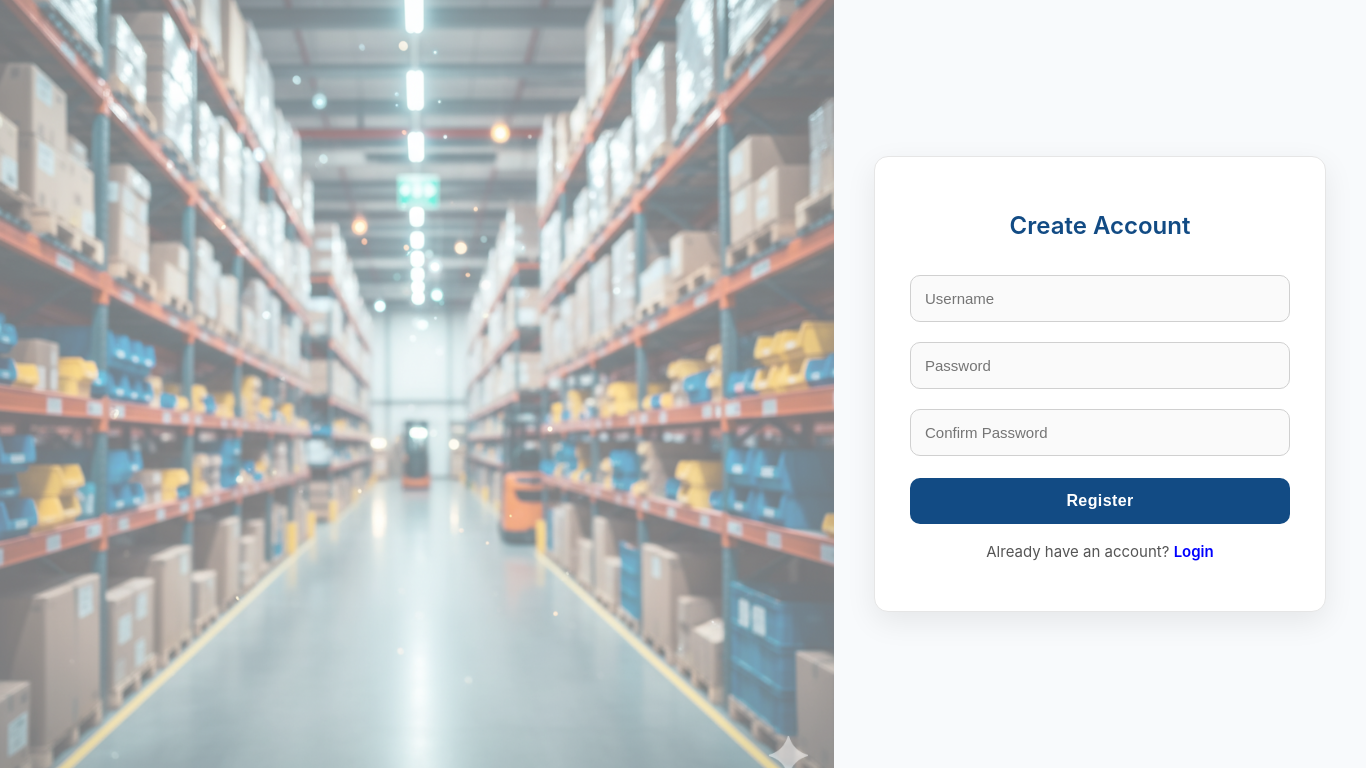
shows password mismatch error
Type "u1" into the field with placeholder "Username" at (1100, 299), box x1=910 y1=276 x2=1290 y2=322
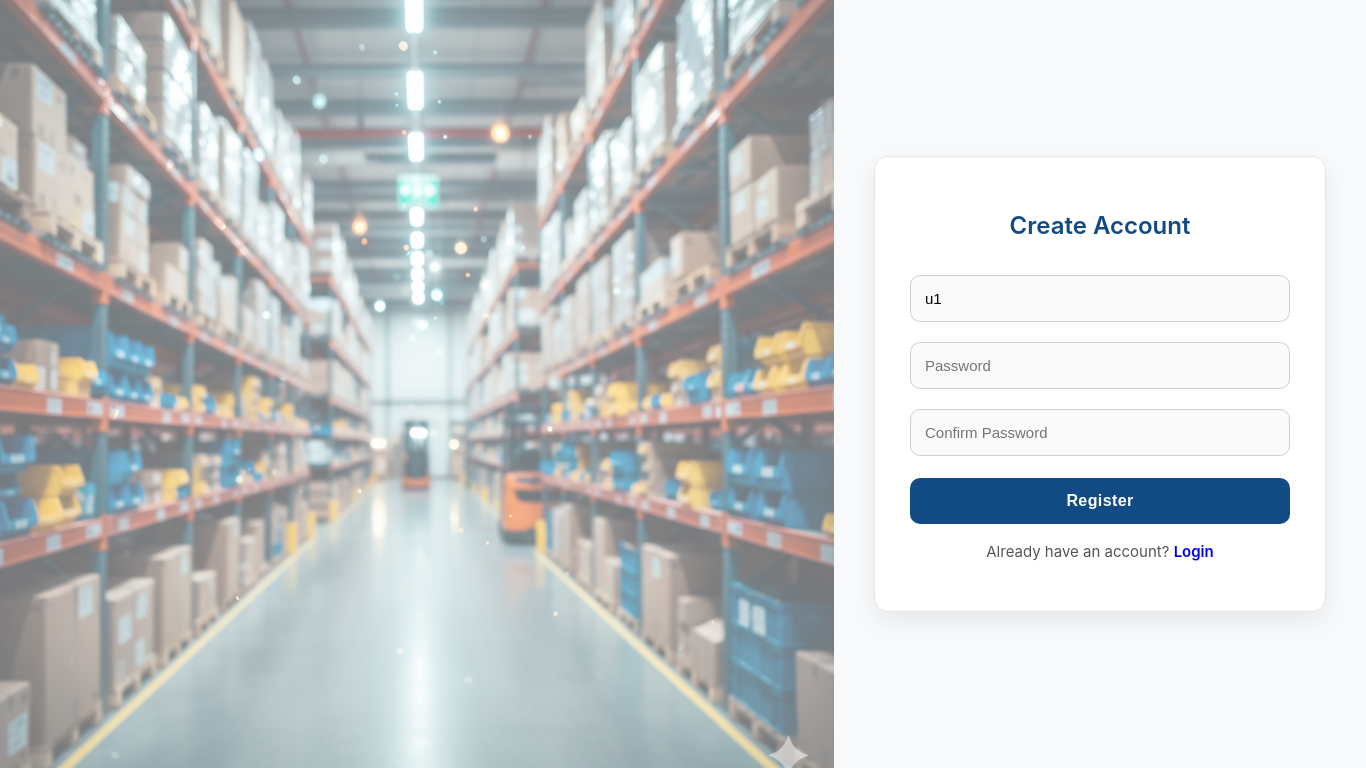
Type "p1" into the password field with placeholder "Password" at (1100, 366), box x1=910 y1=342 x2=1290 y2=390
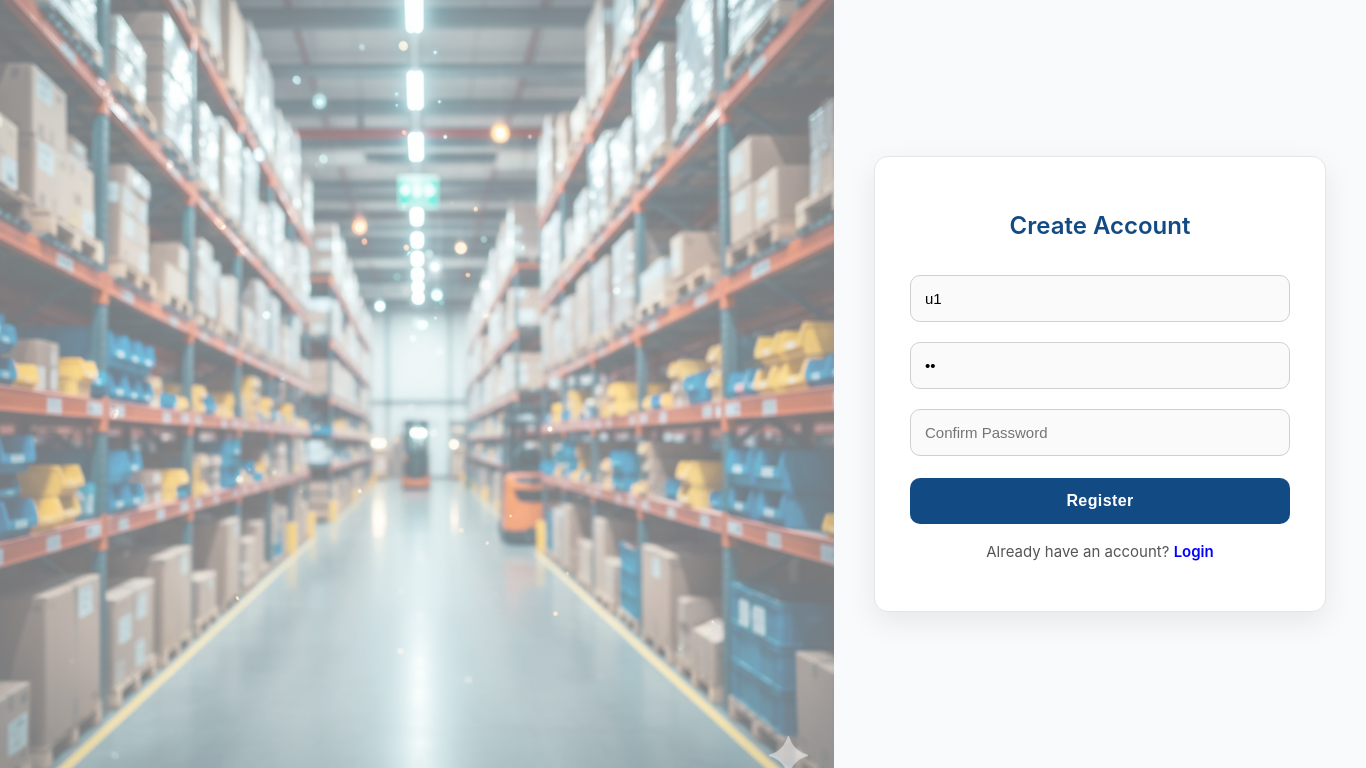
Type "p2" into the password field with placeholder "Confirm Password" at (1100, 433), box x1=910 y1=410 x2=1290 y2=456
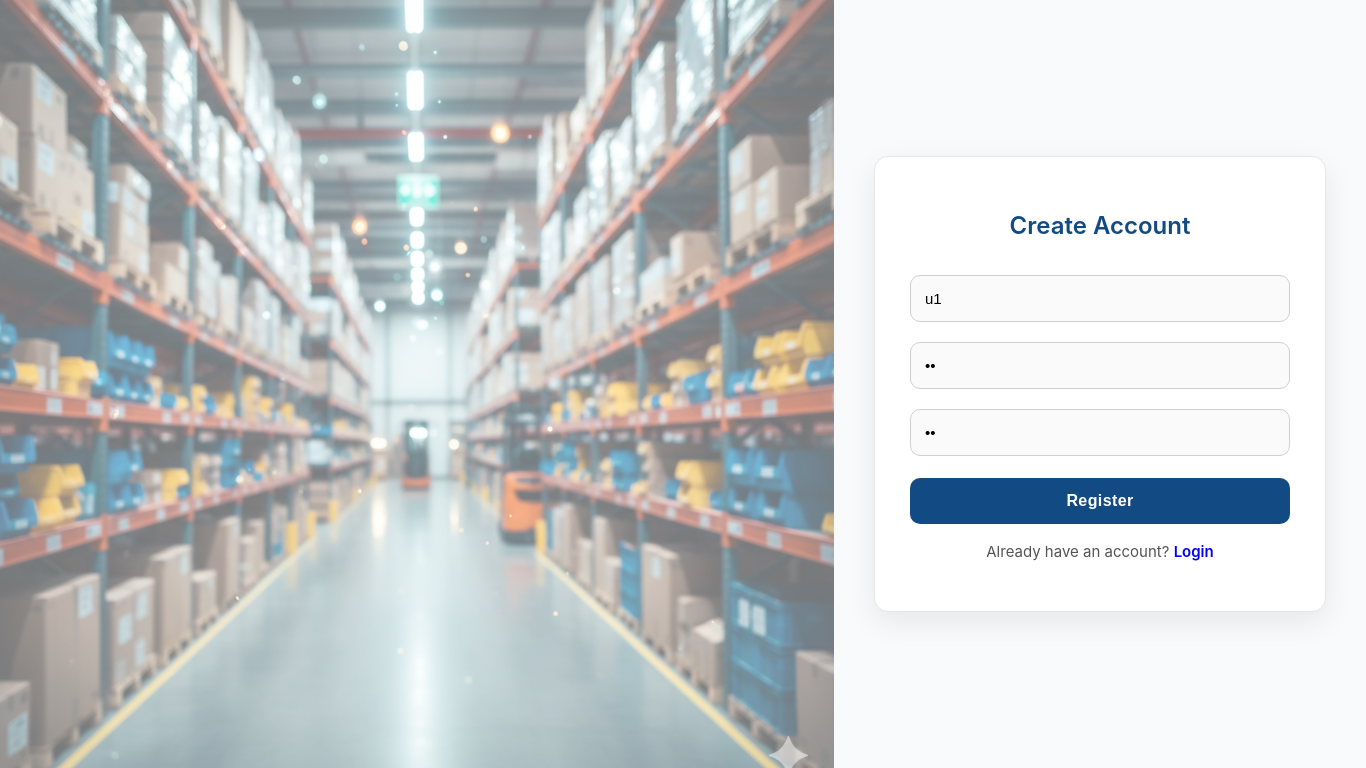
Click the button "Register" at (1100, 502), box x1=910 y1=478 x2=1290 y2=524
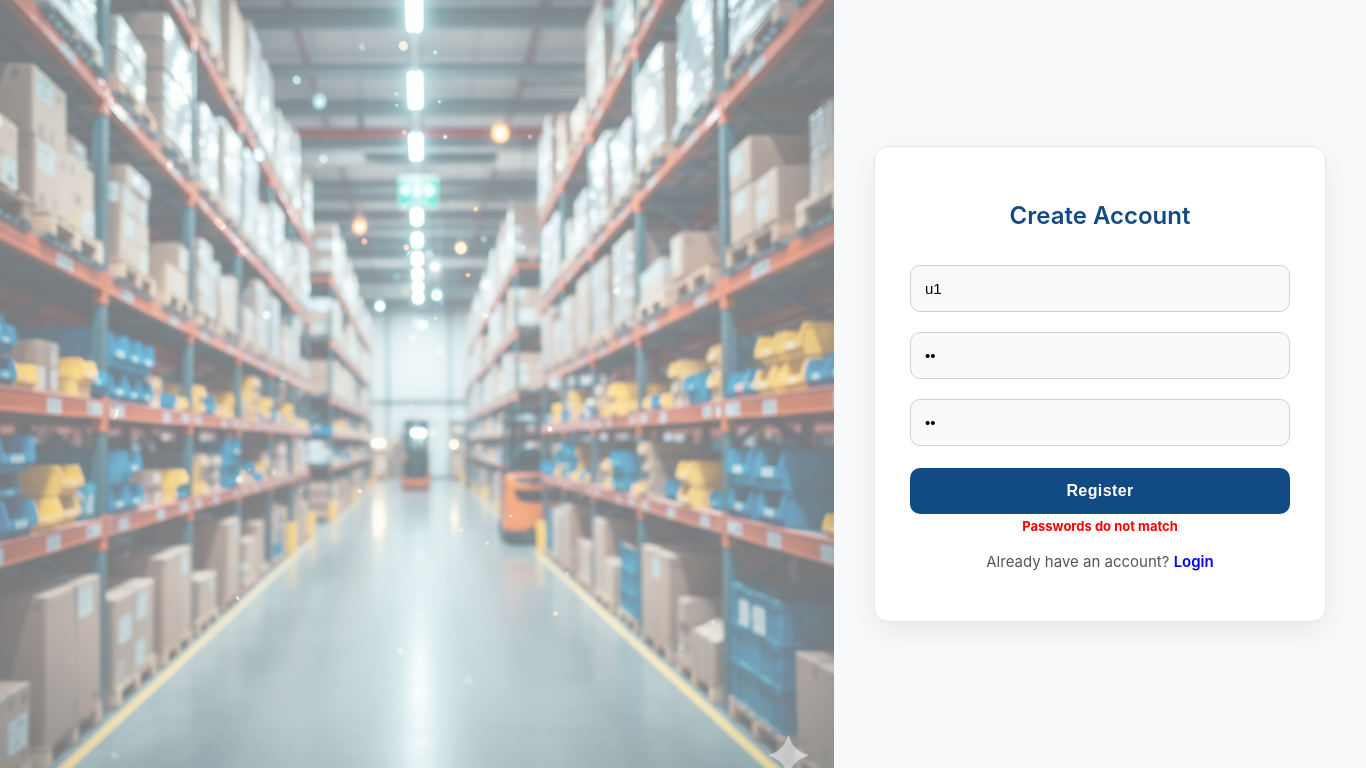
Check: the text "Passwords do not match" is shown, box x1=1022 y1=518 x2=1178 y2=534
